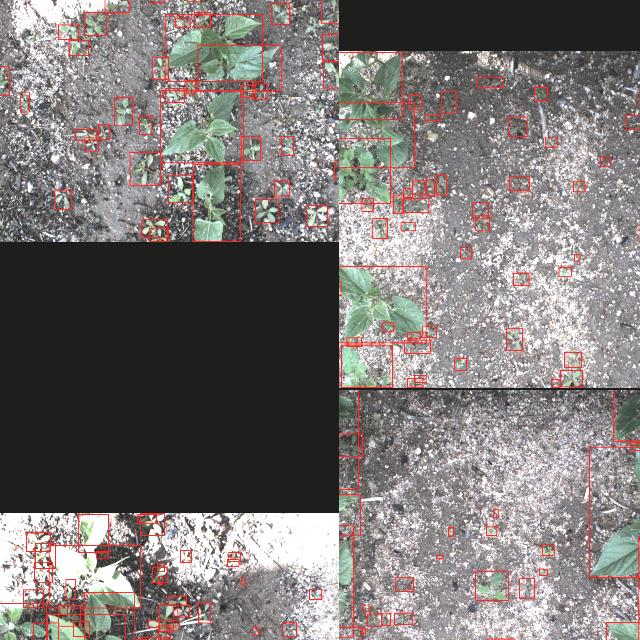crop: (589, 446, 640, 577), (164, 14, 262, 82), (339, 266, 425, 343), (160, 91, 242, 163), (48, 544, 140, 608), (339, 102, 413, 168), (339, 52, 401, 120), (198, 45, 280, 91), (192, 164, 240, 242), (83, 592, 133, 640), (46, 613, 124, 640), (339, 525, 353, 637), (613, 390, 640, 440), (77, 514, 107, 552), (339, 494, 360, 535)
weed: (339, 138, 390, 204), (341, 344, 392, 388), (0, 603, 45, 640), (130, 152, 160, 185), (474, 572, 508, 600), (168, 175, 192, 203), (339, 433, 362, 456), (84, 12, 106, 36), (140, 513, 164, 535), (255, 200, 278, 222), (114, 97, 132, 125), (58, 604, 80, 626), (240, 136, 260, 160), (35, 544, 55, 568), (141, 220, 167, 238), (322, 33, 339, 60), (32, 622, 57, 640), (322, 62, 339, 88), (26, 532, 50, 550), (306, 206, 326, 227), (320, 0, 339, 22), (271, 2, 289, 24), (560, 370, 582, 388), (152, 56, 168, 80), (404, 340, 431, 354), (402, 198, 428, 212), (159, 605, 173, 631), (508, 116, 526, 136), (34, 562, 52, 582), (22, 589, 42, 607), (440, 91, 456, 113), (506, 329, 522, 351), (54, 190, 70, 210), (57, 24, 77, 40), (68, 40, 88, 56), (518, 578, 534, 598), (476, 76, 502, 88), (104, 0, 128, 12), (280, 136, 294, 156), (148, 228, 168, 242), (509, 176, 529, 190), (372, 218, 386, 238), (164, 88, 183, 102), (0, 66, 9, 95), (194, 12, 210, 28), (624, 114, 640, 130), (472, 202, 488, 218), (564, 352, 580, 368), (72, 622, 90, 636), (395, 578, 413, 592), (198, 602, 210, 622), (148, 620, 178, 628), (251, 84, 267, 98), (474, 216, 490, 230), (152, 566, 166, 582), (74, 130, 96, 140), (139, 116, 151, 134), (436, 175, 446, 195), (65, 579, 75, 599), (274, 182, 288, 196), (282, 622, 296, 636), (408, 94, 420, 110), (512, 273, 528, 285), (157, 624, 169, 640), (366, 614, 382, 626), (393, 195, 403, 213), (393, 614, 411, 624), (98, 124, 109, 140), (84, 138, 98, 150), (534, 86, 546, 100), (20, 92, 28, 112), (406, 378, 422, 388), (136, 514, 156, 522), (412, 180, 424, 193), (240, 85, 254, 96), (422, 327, 436, 338), (174, 18, 190, 27), (454, 358, 466, 370), (361, 198, 373, 210), (177, 605, 189, 617), (168, 596, 186, 604), (541, 544, 553, 556), (185, 80, 195, 94), (426, 179, 434, 195), (346, 338, 360, 347), (572, 182, 584, 192), (544, 137, 556, 147), (309, 589, 321, 599), (228, 552, 240, 562), (180, 550, 190, 562), (380, 613, 390, 625), (400, 222, 414, 230), (382, 322, 393, 332), (333, 162, 339, 180), (95, 550, 108, 558), (600, 156, 610, 166), (402, 188, 412, 198), (460, 248, 470, 258), (486, 526, 496, 536), (558, 268, 570, 276), (226, 559, 238, 567), (629, 442, 640, 450), (156, 562, 164, 572), (406, 332, 419, 338), (413, 376, 425, 382), (424, 116, 440, 120), (551, 380, 559, 388), (539, 568, 547, 576), (252, 627, 258, 635), (492, 509, 498, 517), (362, 604, 368, 612), (574, 254, 578, 262), (158, 576, 162, 584), (448, 528, 452, 536), (240, 578, 244, 584), (436, 555, 442, 559), (361, 628, 365, 634)
